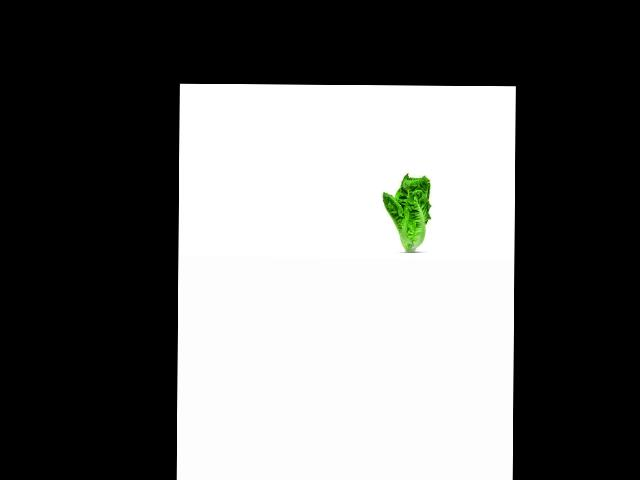lettuce: (382, 172, 434, 249)
